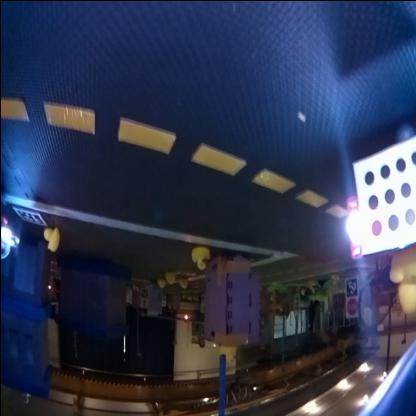Duckie: (388, 248, 414, 313), (189, 247, 209, 270), (43, 227, 58, 251), (164, 272, 174, 284), (178, 277, 186, 289), (330, 272, 338, 284), (156, 280, 163, 288), (307, 280, 313, 288)
Duckiebot: (344, 132, 415, 261), (0, 214, 18, 258)
QR code: (11, 210, 43, 226), (344, 280, 356, 296)
Stop sign: (346, 298, 355, 316)
